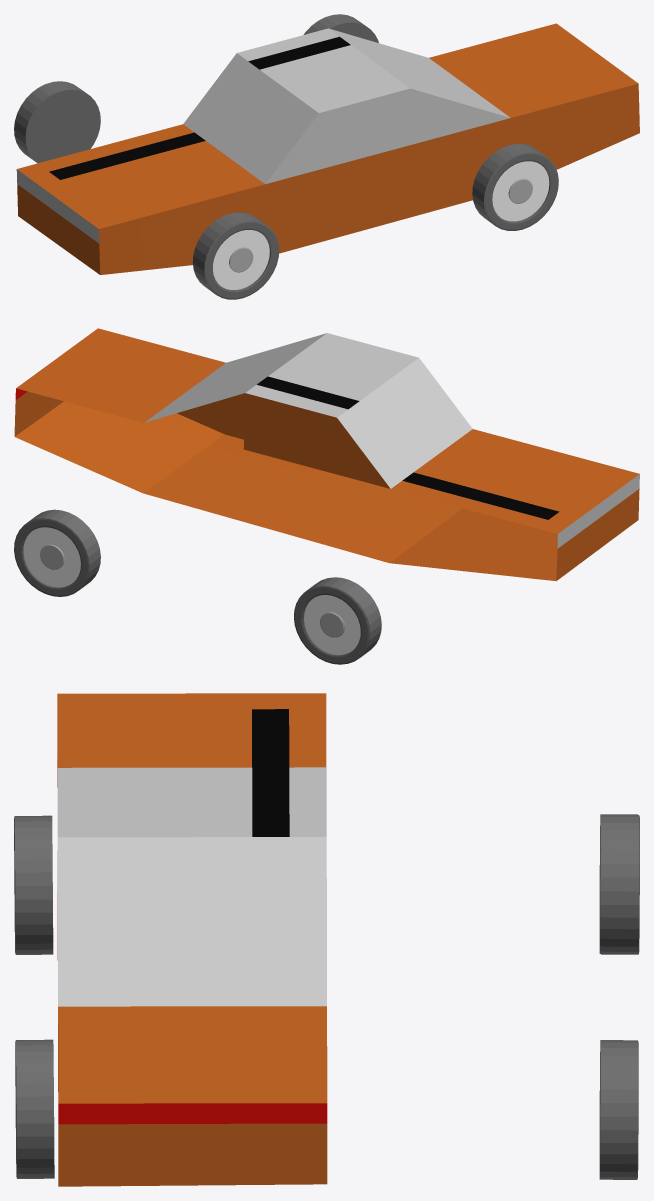
Rendered from carfinished.gltf.
The picture shows the model from 3 angles, top to bottom: view 1: azimuth 30°, elevation 25°; view 2: azimuth 150°, elevation 25°; view 3: azimuth 270°, elevation 25°; orthographic projection. The views are drawn at different scales.
Visible parts, largest first — view 1: Cube, Cylinder.002, Cylinder.000, Cylinder.003, Cylinder.004; view 2: Cube, Cylinder.004, Cylinder.001, Cylinder.003; view 3: Cube, Cylinder.004, Cylinder.000, Cylinder.002, Cylinder.001, Cylinder.003.
Part boxes in pixels (left/top/right/bottom): Cube: left=16, top=23, right=639, bottom=274; Cylinder.002: left=192, top=212, right=279, bottom=299; Cylinder.000: left=472, top=144, right=558, bottom=230; Cylinder.003: left=14, top=82, right=100, bottom=163; Cylinder.004: left=303, top=14, right=378, bottom=42; Cube: left=14, top=328, right=639, bottom=581; Cylinder.004: left=14, top=509, right=100, bottom=596; Cylinder.001: left=294, top=577, right=369, bottom=664; Cylinder.003: left=302, top=577, right=381, bottom=663; Cube: left=57, top=693, right=327, bottom=1186; Cylinder.004: left=599, top=1040, right=638, bottom=1179; Cylinder.000: left=15, top=1039, right=54, bottom=1178; Cylinder.002: left=14, top=815, right=53, bottom=954; Cylinder.001: left=601, top=815, right=639, bottom=954; Cylinder.003: left=599, top=814, right=637, bottom=953.
Size of the model in its own units: 4 by 1.11 by 2.44.
